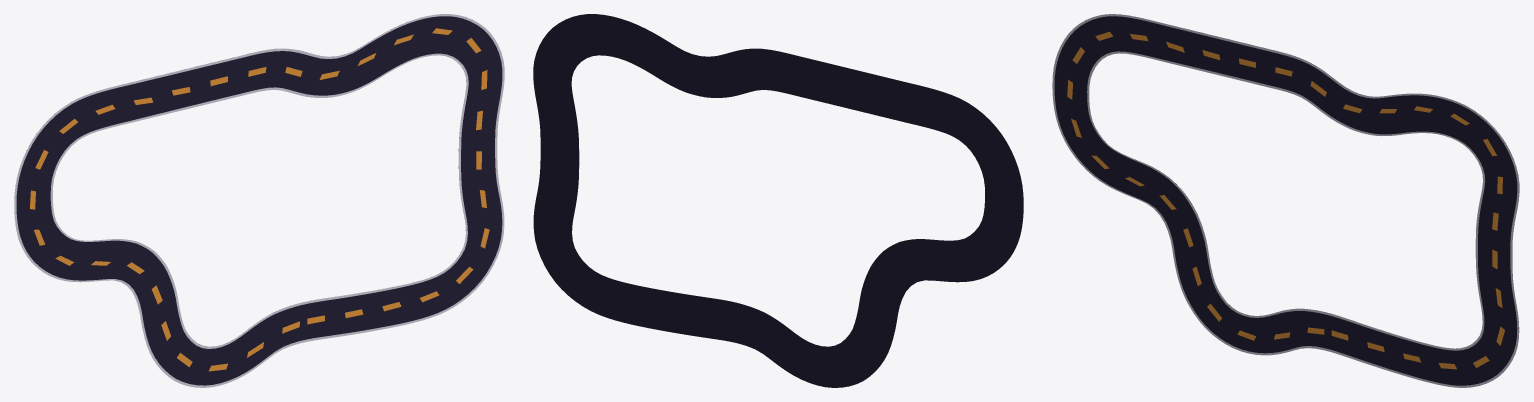
File: track.obj
3 views of the same model, side by side, from view 1: azimuth 30°, elevation 25°; view 2: azimuth 150°, elevation 25°; view 3: azimuth 330°, elevation 25° (orthographic). The views are drawn at different scales.
Size of the model in its own units: 8.39 by 5.31 by 0.002.
